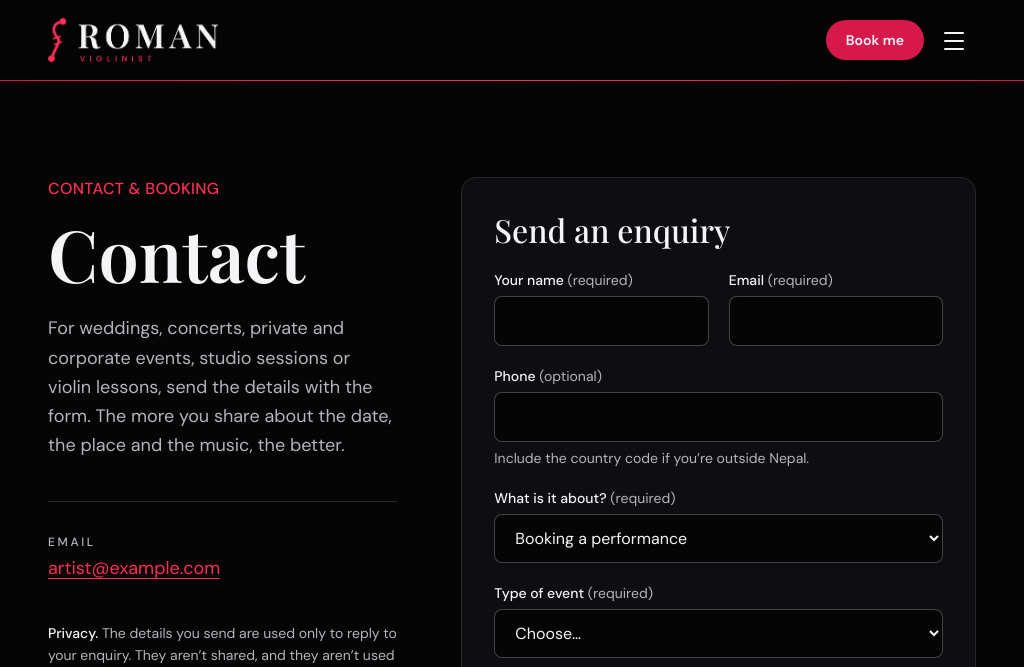
Test: contact page › asks lessons enquiries no event type
Select "Violin lessons" in the dropdown labelled "What is it about? (required)" at [719, 538], box [494, 514, 943, 563]
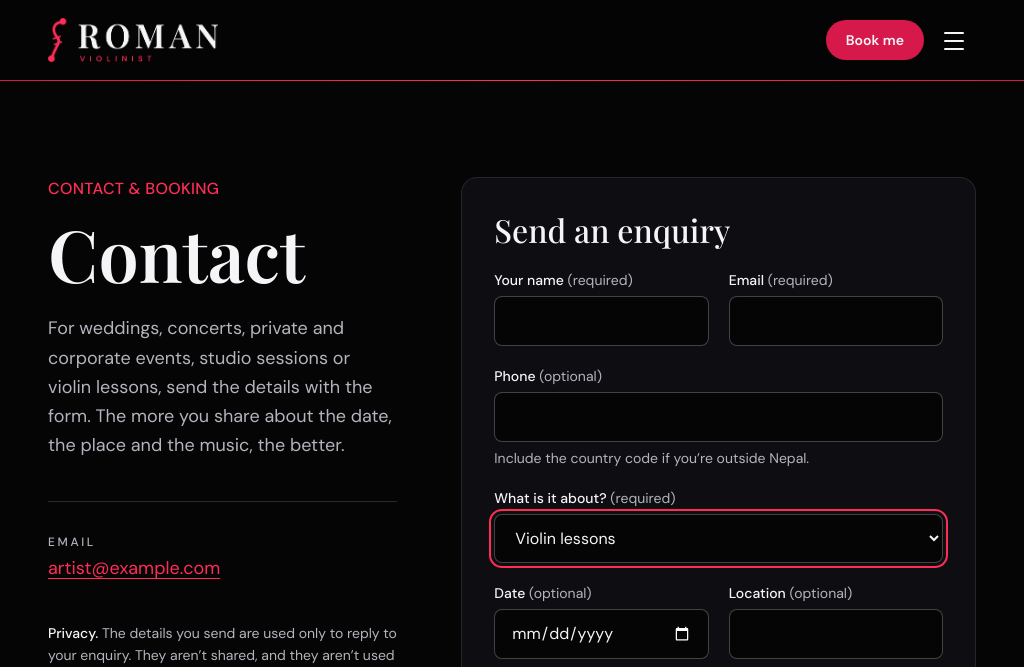
Check: the label labelled "Type of event" is gone
